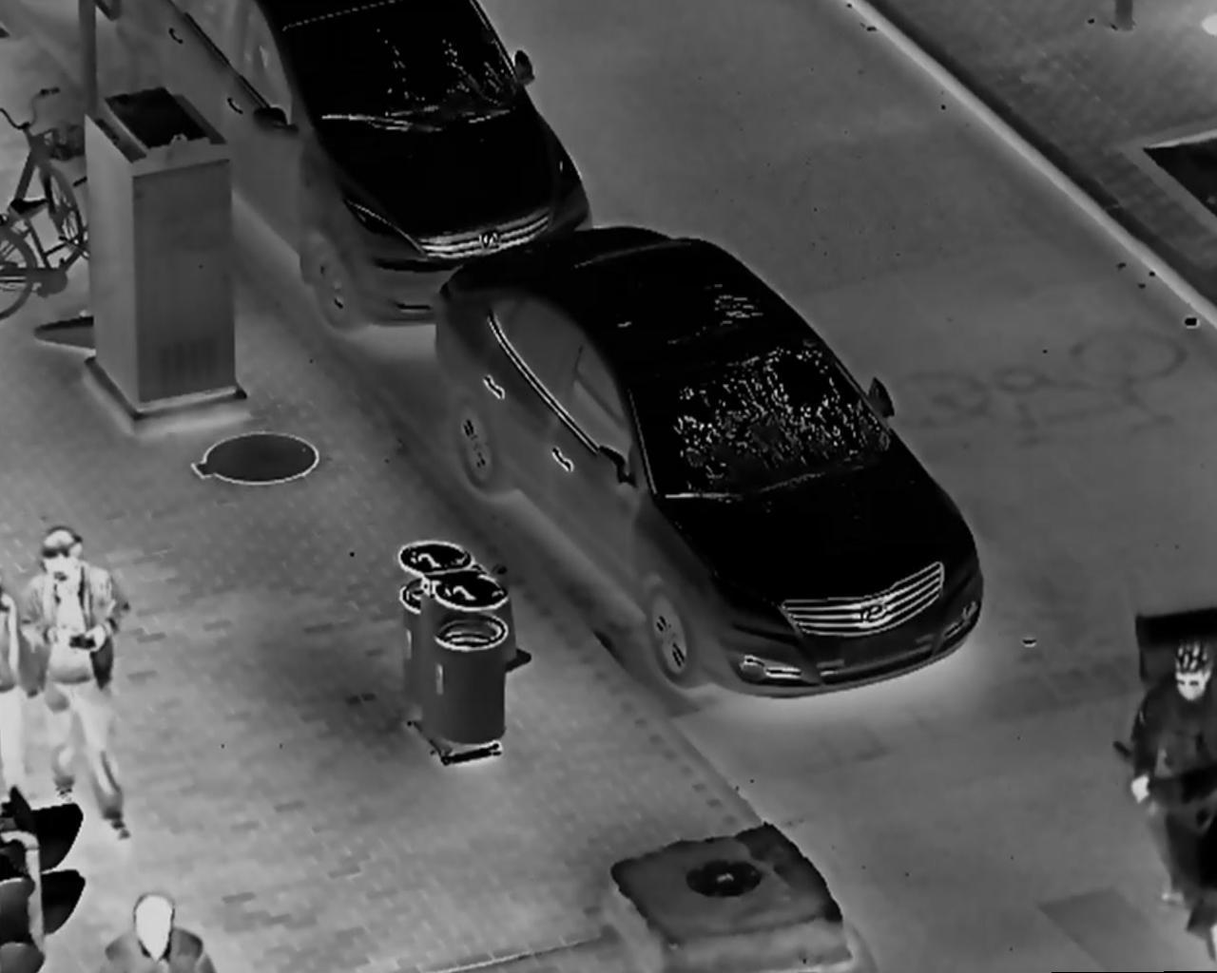person: (27, 517, 142, 848), (1134, 638, 1217, 910), (91, 889, 222, 973)
